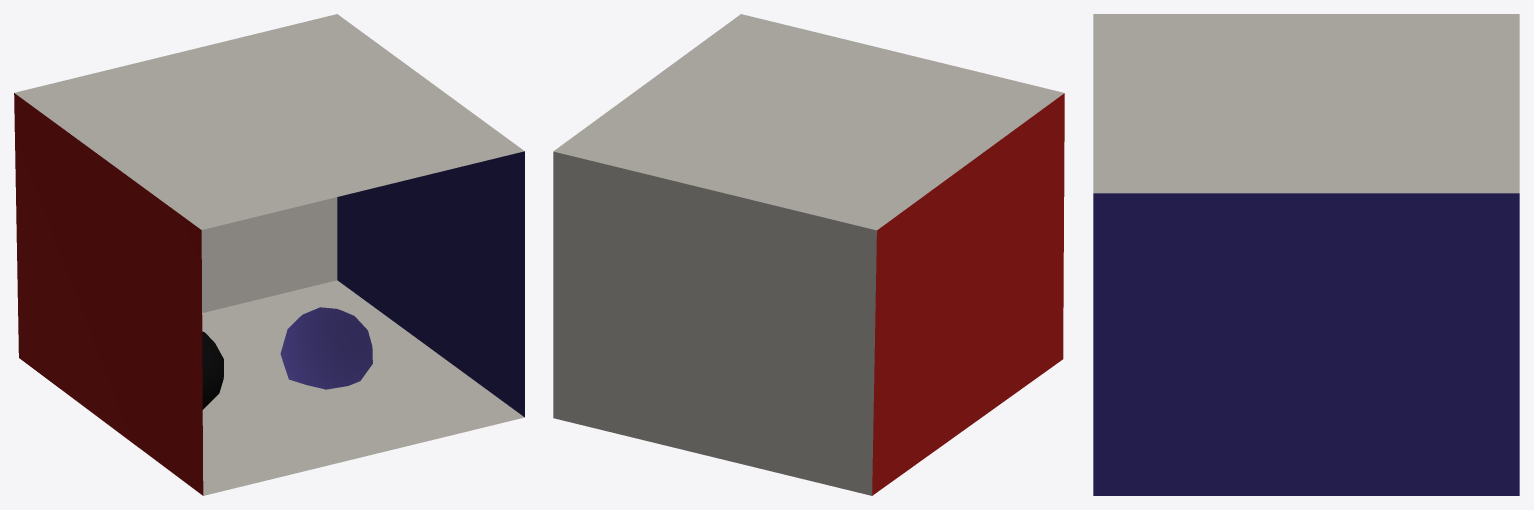
Rendered from CornellBox-Sphere-601.obj.
The picture shows the model from 3 angles, left to right: view 1: azimuth 30°, elevation 25°; view 2: azimuth 150°, elevation 25°; view 3: azimuth 270°, elevation 25°; orthographic projection. The views are drawn at different scales.
Visible parts, largest first — view 1: ceiling, leftWall, floor, rightWall, backWall, leftSphere, rightSphere; view 2: backWall, ceiling, leftWall; view 3: rightWall, ceiling.
Boxes of the visible parts, x1,y1,x2,y2 form: ceiling: (14, 14, 524, 229); leftWall: (14, 93, 203, 495); floor: (202, 280, 524, 495); rightWall: (337, 151, 524, 417); backWall: (201, 197, 337, 312); leftSphere: (280, 307, 372, 389); rightSphere: (202, 331, 223, 409); backWall: (553, 151, 876, 495); ceiling: (553, 14, 1064, 230); leftWall: (872, 93, 1064, 495); rightWall: (1093, 193, 1519, 495); ceiling: (1093, 14, 1519, 193).
Size of the model in its own units: 2.02 by 1.59 by 2.03.
